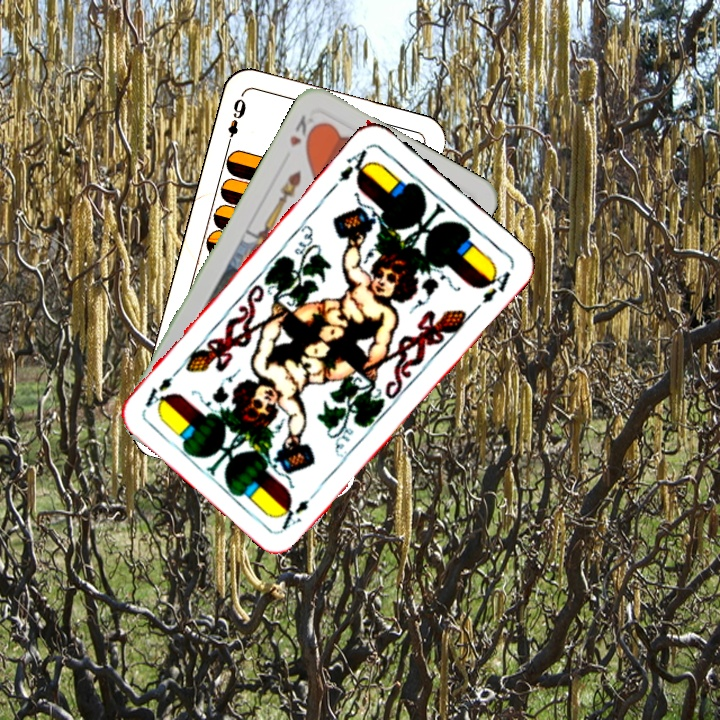E9: (222, 94, 249, 150)
EA: (276, 484, 322, 533), (334, 142, 375, 185)
HK: (285, 110, 322, 150)
